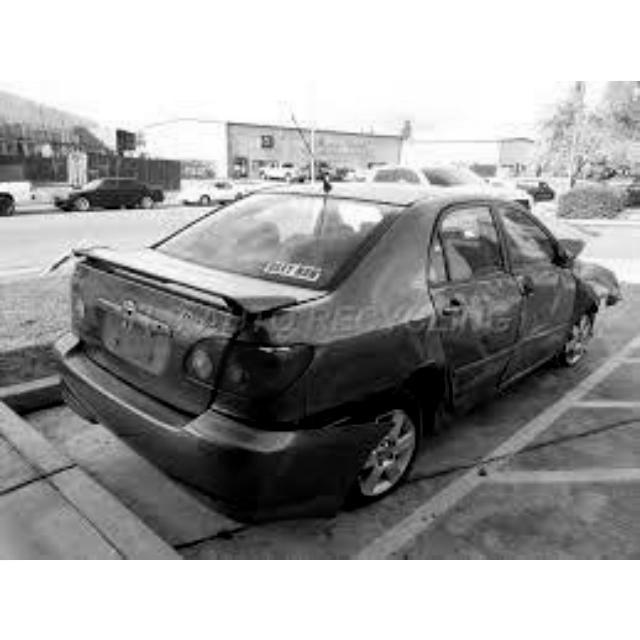rear-bumper-dent: (166, 392, 378, 520)
